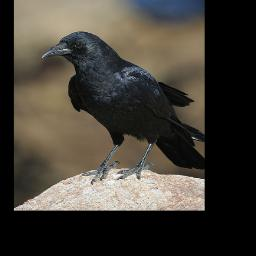Crow: (39, 30, 204, 185)
